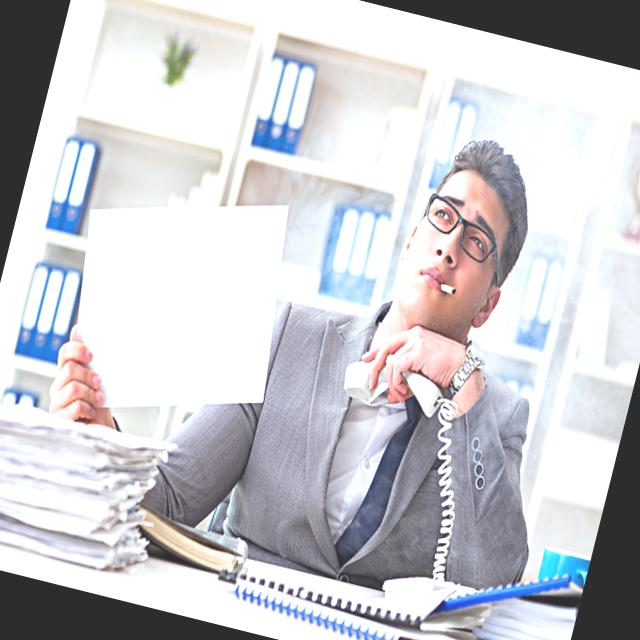smoke: (434, 276, 459, 304)
